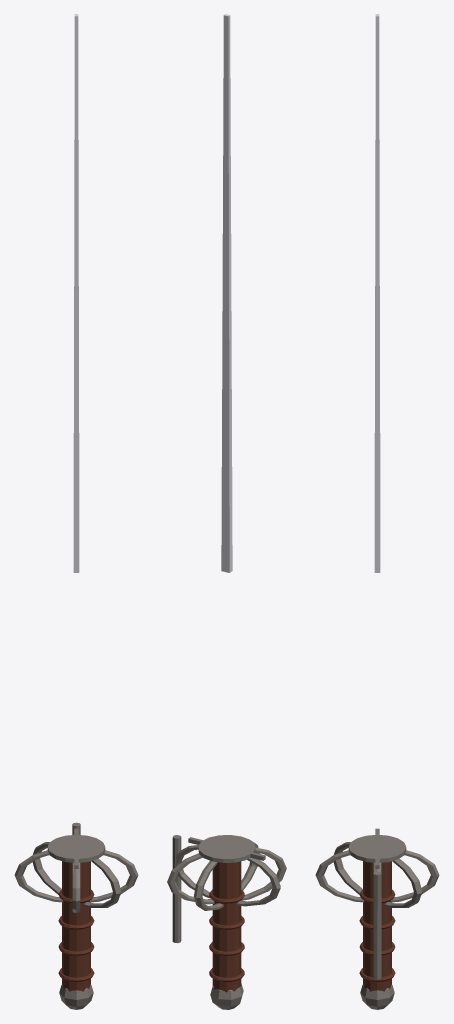
Rendered from rapier.fbx.
3 renders of one model, left to right at view 1: azimuth 90°, elevation 25°; view 2: azimuth 150°, elevation 25°; view 3: azimuth 270°, elevation 25°, orthographic.
Visible parts, largest first — view 1: rapier; view 2: rapier; view 3: rapier.
Boxes of the visible parts, left/top/right/bottom form: rapier: left=14, top=14, right=138, bottom=1009; rapier: left=167, top=14, right=286, bottom=1009; rapier: left=315, top=14, right=439, bottom=1009.
Bounding box in the file's own units: 0.086 × 0.7595 × 0.086.
3 materials, 1 textured.
